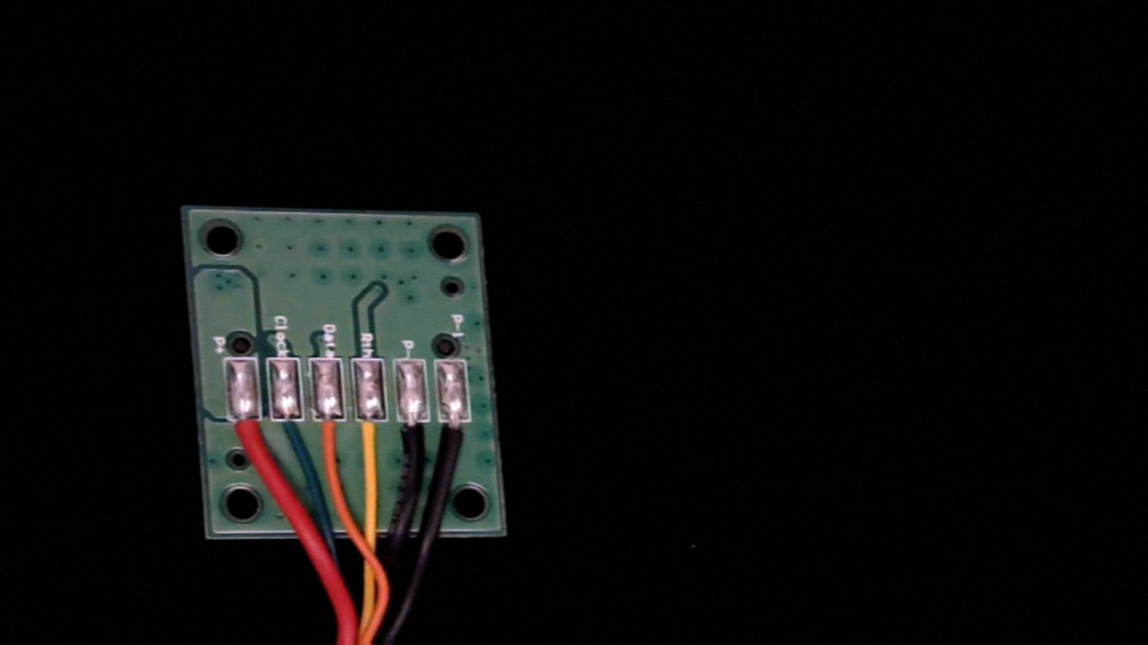Black: (395, 407, 435, 472)
Black1: (439, 405, 480, 471)
Green: (270, 402, 310, 463)
Orange: (311, 404, 353, 475)
Red: (226, 402, 267, 460)
Yellow: (353, 404, 396, 477)
